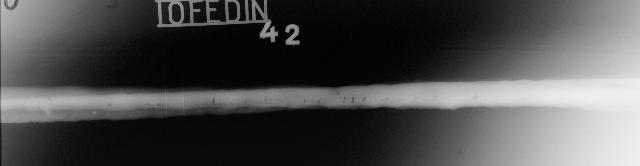FF: (2, 87, 640, 115)
